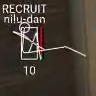hacks_1: (2, 4, 87, 76)
